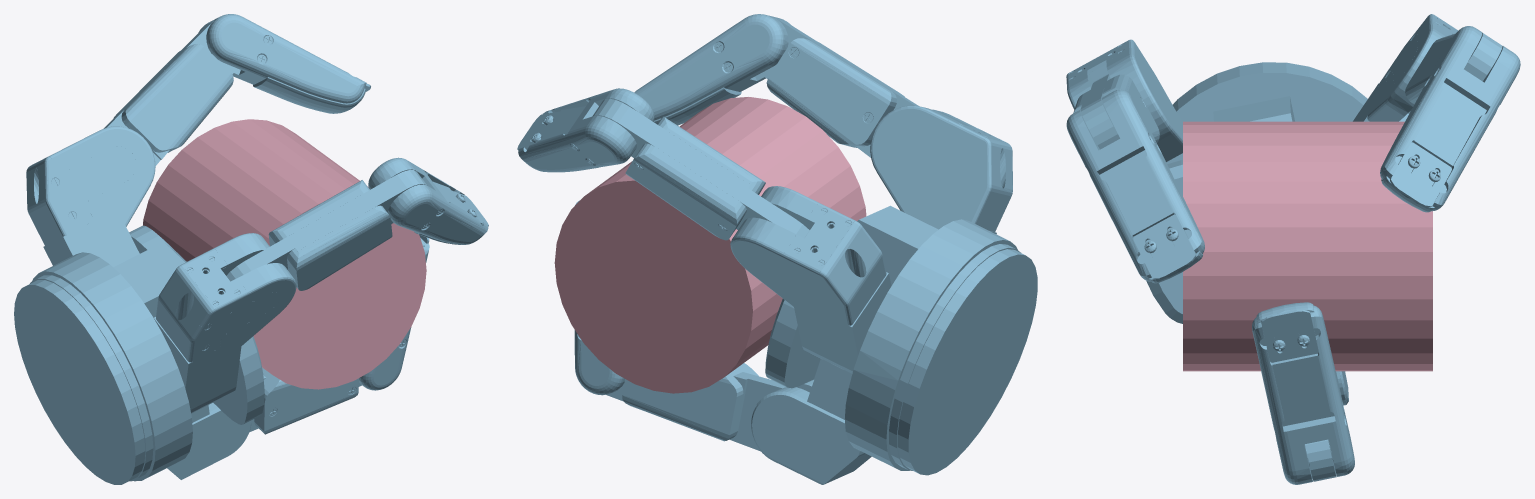
The picture shows the model from 3 angles, left to right: view 1: azimuth 30°, elevation 25°; view 2: azimuth 150°, elevation 25°; view 3: azimuth 270°, elevation 25°; orthographic projection. The views are drawn at different scales.
Visible parts, largest first — view 1: world; view 2: world; view 3: world.
Part boxes in pixels (x1=…): world: x1=14, y1=14, x2=488, y2=484; world: x1=517, y1=14, x2=1037, y2=484; world: x1=1066, y1=14, x2=1520, y2=484.
Bounding box in the file's own units: 0.172 × 0.1589 × 0.1454.
